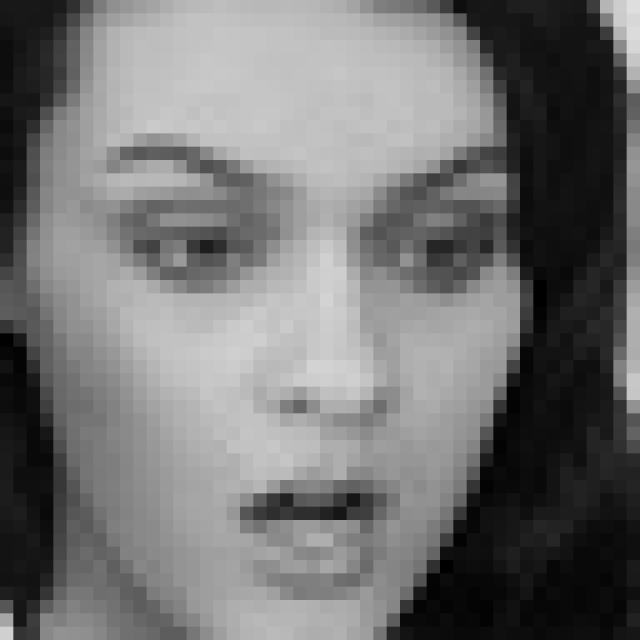surprise: (102, 130, 512, 600)
